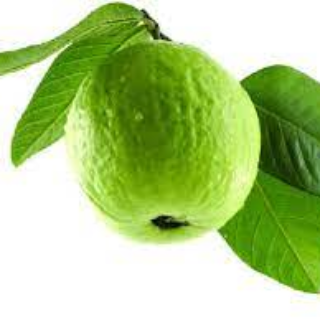oi: (66, 40, 266, 250)
